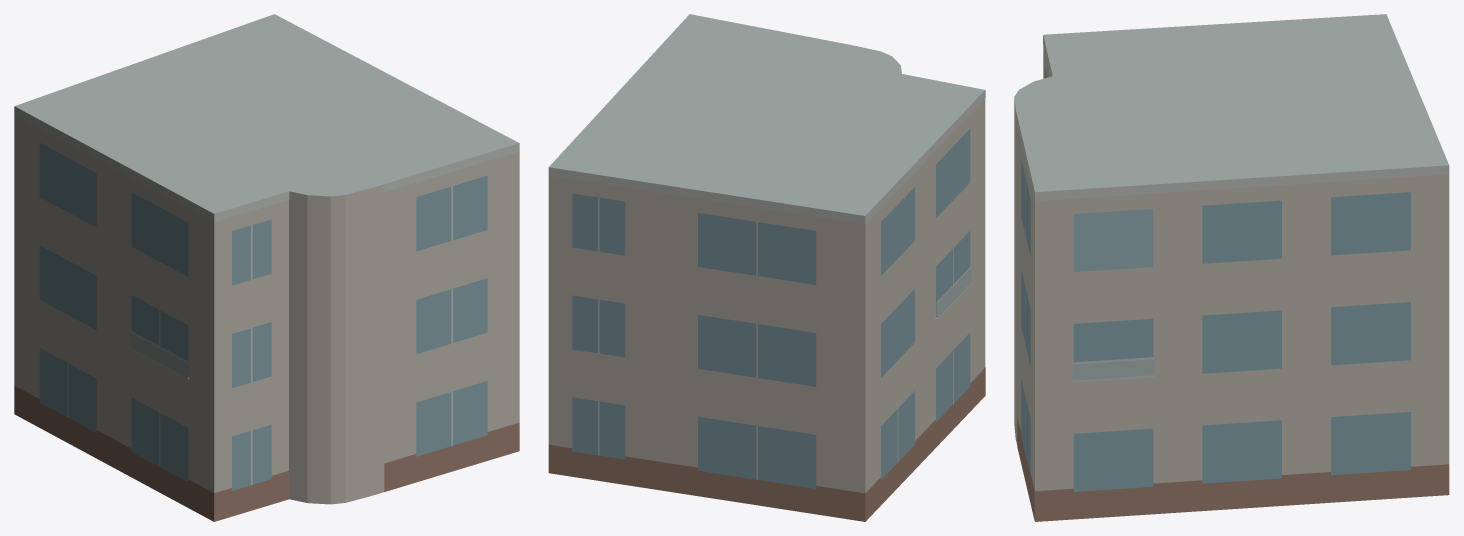
File: survey-upis-32697979.glb
The picture shows the model from 3 angles, left to right: view 1: azimuth 30°, elevation 25°; view 2: azimuth 150°, elevation 25°; view 3: azimuth 270°, elevation 25°; orthographic projection. The views are drawn at different scales.
Parts seen in each view (by area): view 1: survey-upis-32697979.tmp; view 2: survey-upis-32697979.tmp; view 3: survey-upis-32697979.tmp.
Boxes of the visible parts, <box> form: survey-upis-32697979.tmp: <box>14,14,519,521</box>; survey-upis-32697979.tmp: <box>548,14,985,521</box>; survey-upis-32697979.tmp: <box>1014,14,1449,521</box>.
Size of the model in its own units: 10.44 by 9 by 10.76.
